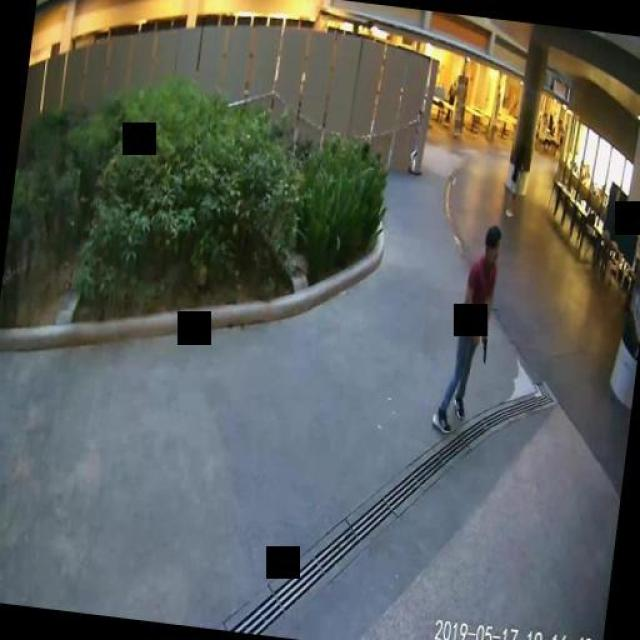gun: (478, 330, 488, 364)
